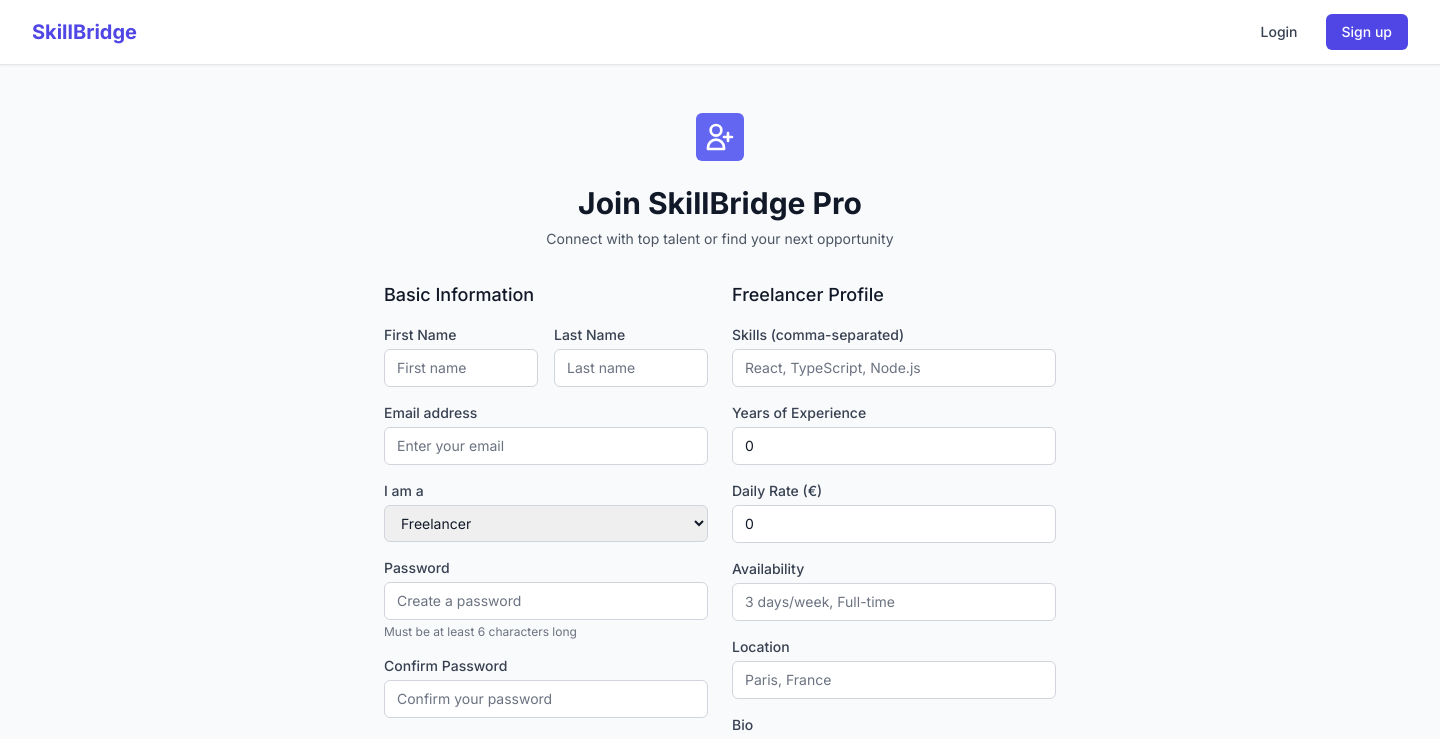
it: SkillBridge Pro Frontend Tests › RegisterPage › shows company fields when company is selected
Step 1. Select "Company" in the dropdown labelled "I am a" → (546, 524), box x1=384 y1=505 x2=708 y2=542
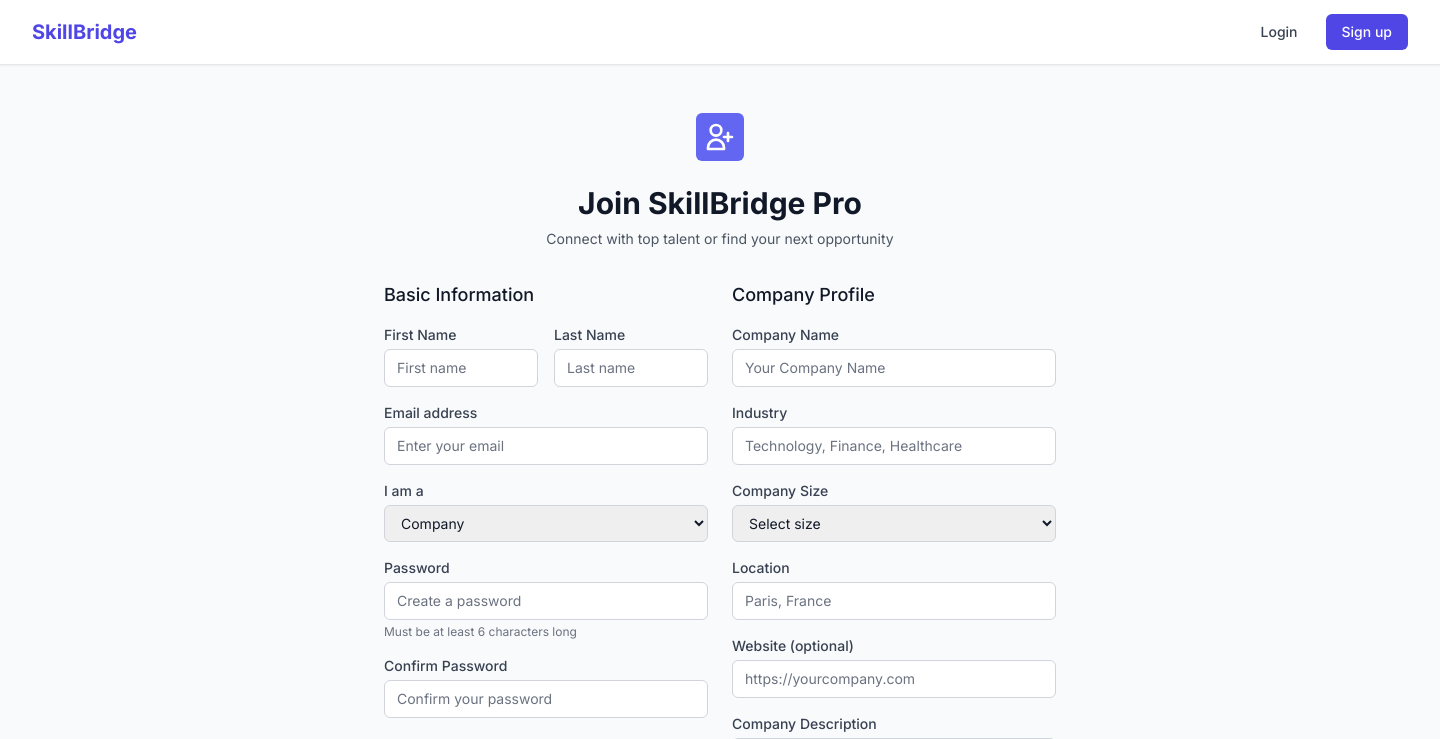
expect the field labelled "Company Name" is shown: met, box x1=732 y1=349 x2=1056 y2=387
expect the field labelled "Industry" is shown: met, box x1=732 y1=427 x2=1056 y2=465
expect the dropdown labelled "Company Size" is shown: met, box x1=732 y1=505 x2=1056 y2=542
